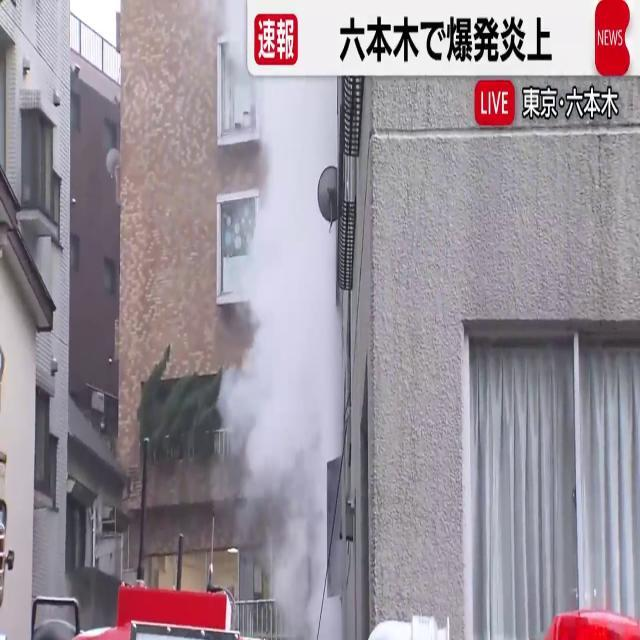Smoke: (214, 79, 342, 541)
